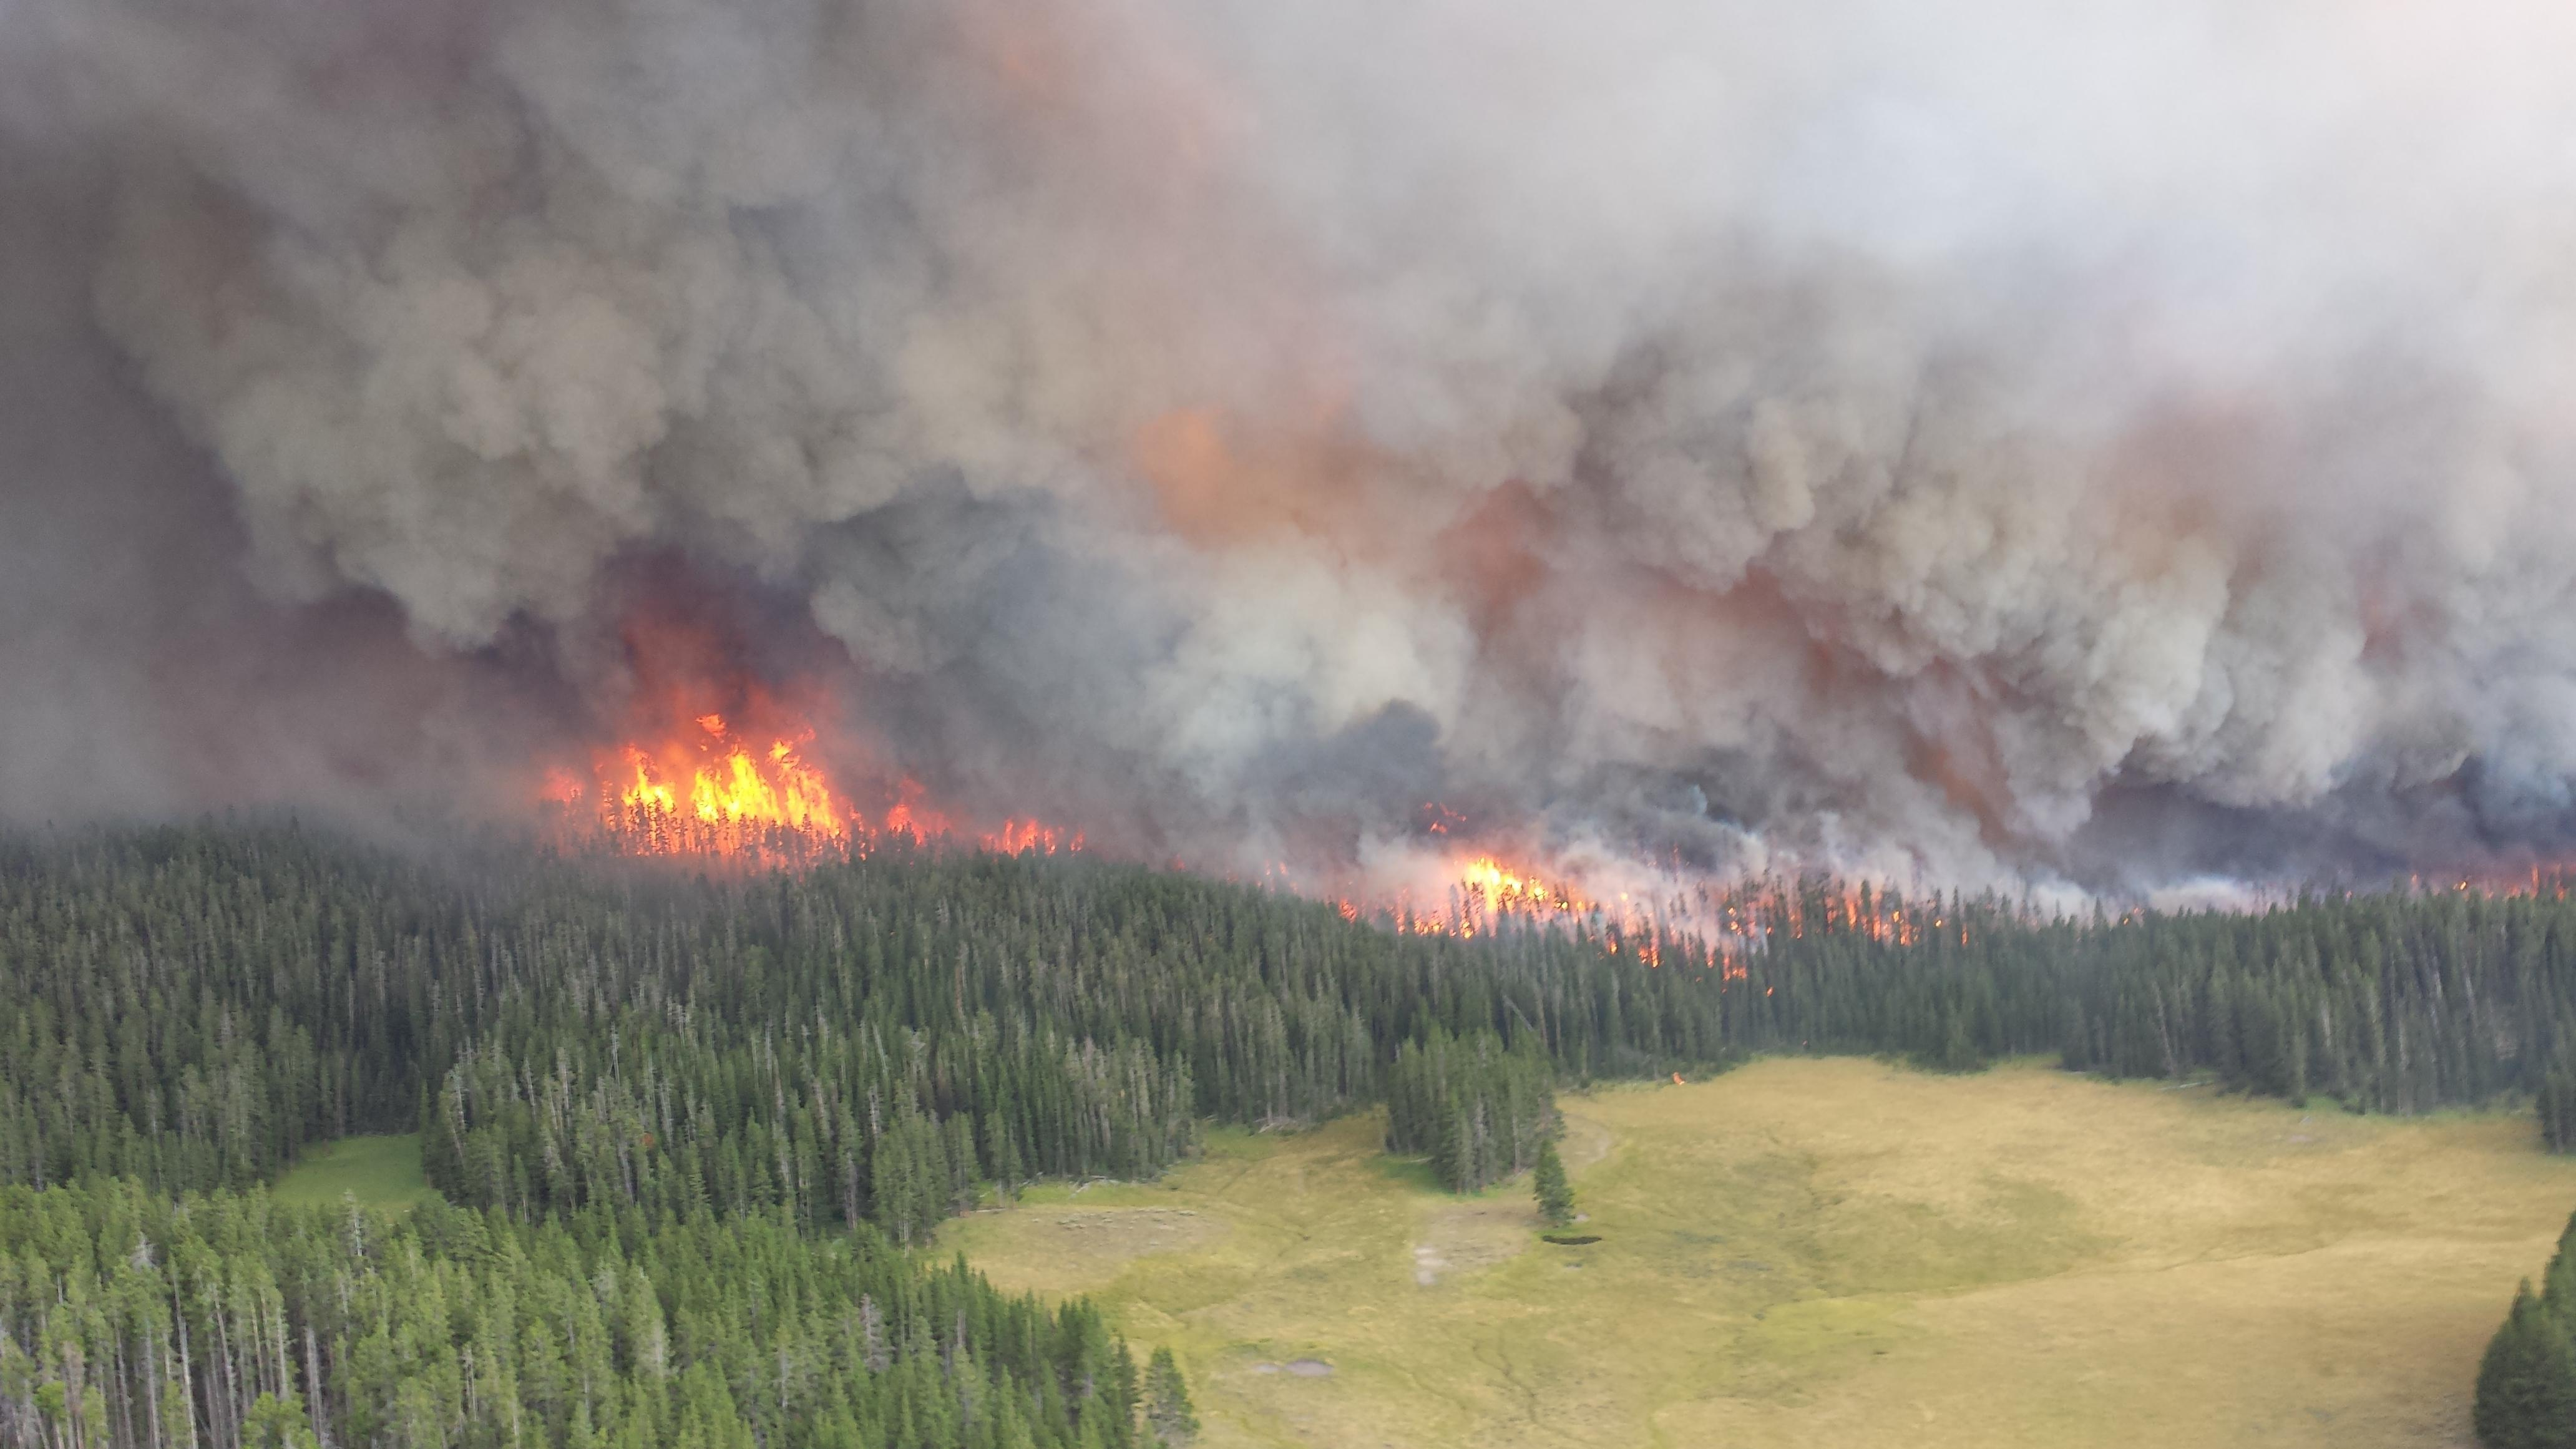smoke: (16, 35, 2555, 931)
